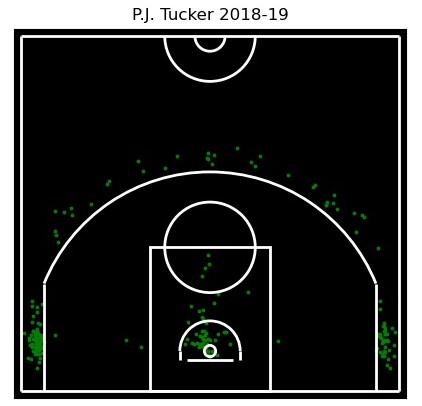

This screenshot's page, from the dashboard's own definition file:
{"tool":"tableau","page":{"name":"Dashboard 1","canvas":[800,800],"ordinal":0},"visuals":[{"type":"worksheet","title":"Sheet 1","mark":"Automatic","rows":["LOC_Y"],"cols":["LOC_X"],"box":[8,8,624,784]},{"type":"legend","title":"Sheet 1","param":"[federated.03dq9x01td4w500zwbh3a0a7gqdi].[none:SHOT_MADE_FLAG:ok]","box":[632,8,160,72]}]}

Visuals, with their boxes on the page's 800x800 design canvas (x1, y1, x2, y2). These are canvas units, not pixel positions in the 422x406 screenshot, which may show the page scaled, cropped or inside an application window:
"Sheet 1" worksheet: (8, 8, 632, 792)
"Sheet 1" legend: (632, 8, 792, 80)
